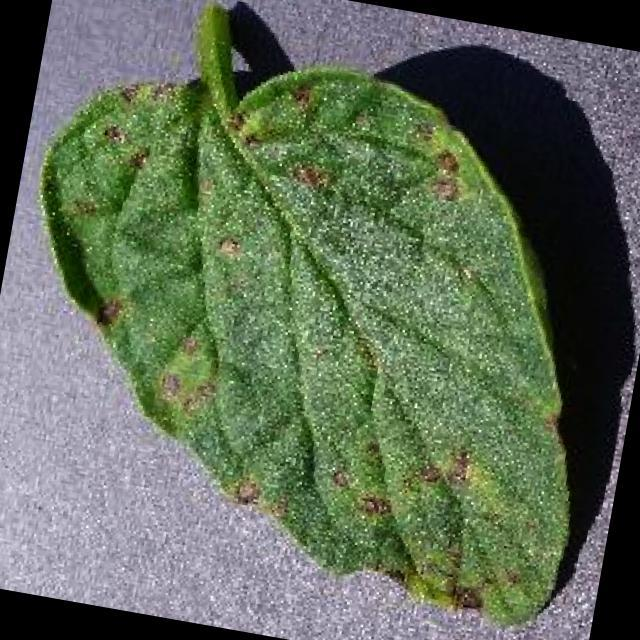Tomato Septoria spot leaf: (0, 21, 635, 640)
